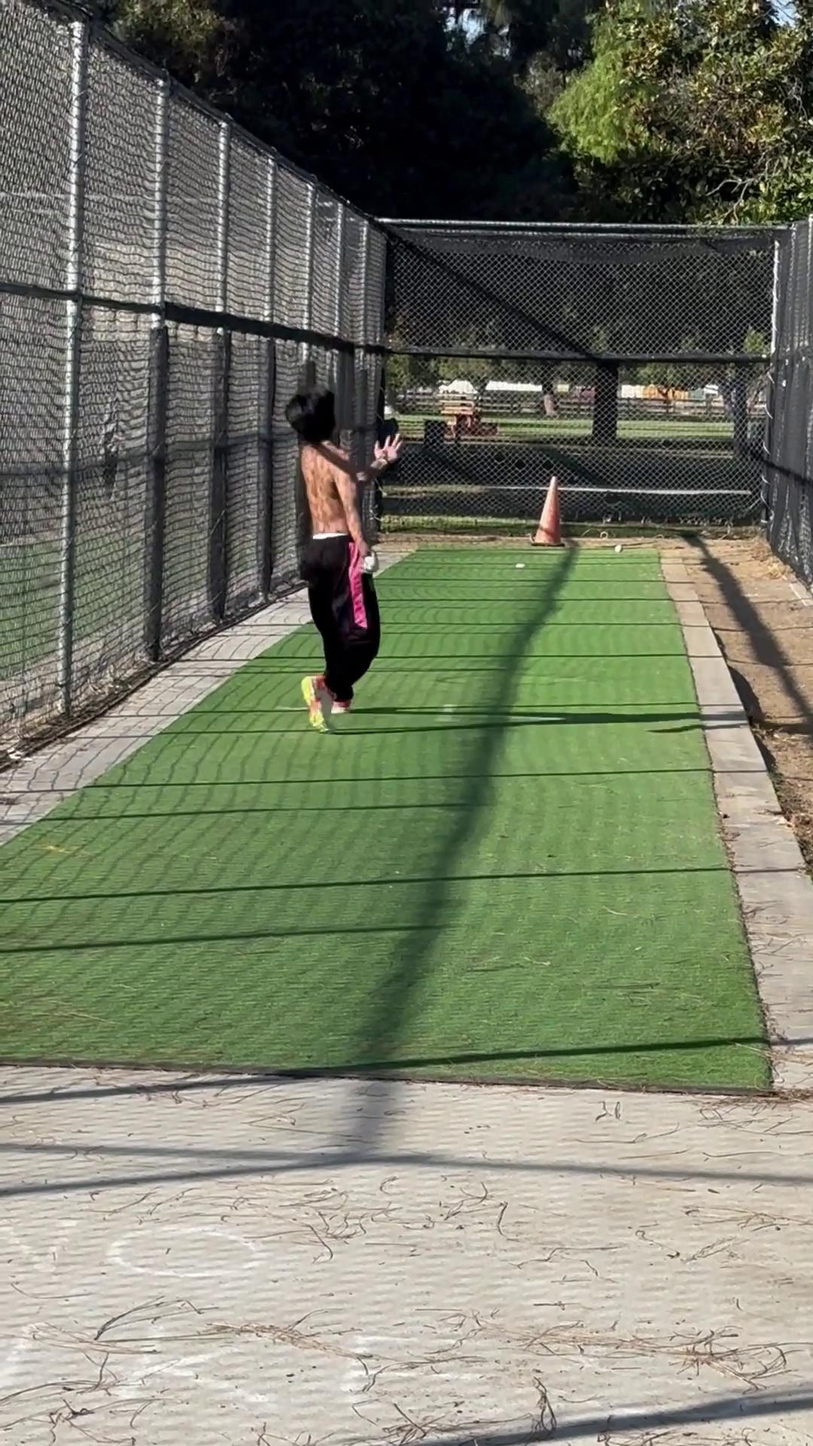ball: (354, 549, 385, 578)
